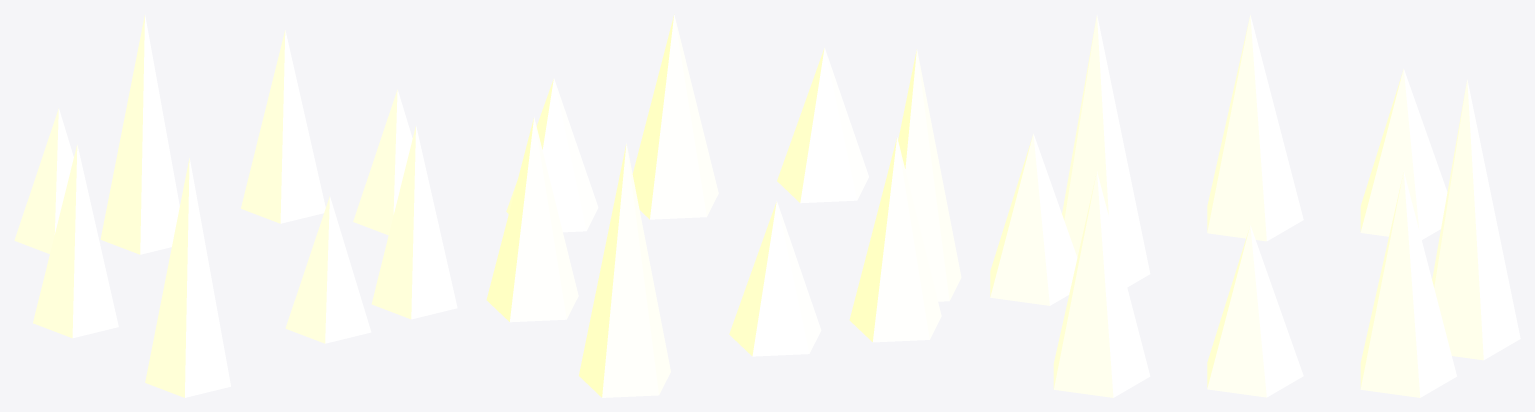
File: surface.thorns.glb
The picture shows the model from 3 angles, left to right: view 1: azimuth 30°, elevation 25°; view 2: azimuth 150°, elevation 25°; view 3: azimuth 270°, elevation 25°; orthographic projection. The views are drawn at different scales.
Visible parts, largest first — view 1: surface.thorns.Cone.008; view 2: surface.thorns.Cone.008; view 3: surface.thorns.Cone.008.
Boxes of the visible parts, x1,y1,x2,y2 form: surface.thorns.Cone.008: (14, 15, 457, 397); surface.thorns.Cone.008: (486, 14, 961, 397); surface.thorns.Cone.008: (990, 15, 1520, 397).
Size of the model in its own units: 1.6 by 0.86 by 1.59.
